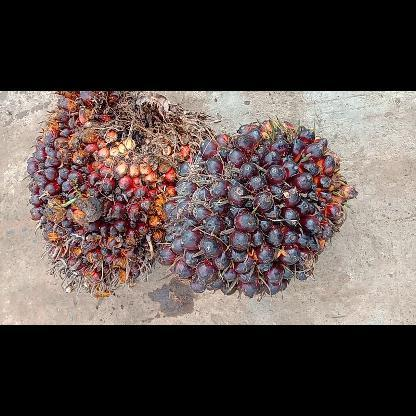TBS masak: (26, 90, 214, 296)
TBS mentah: (158, 118, 356, 296)
